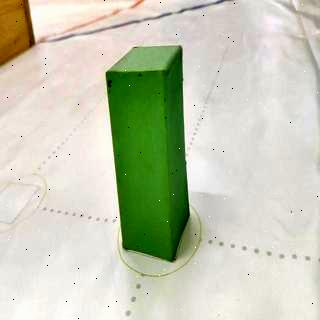greenbox: (104, 42, 194, 263)
